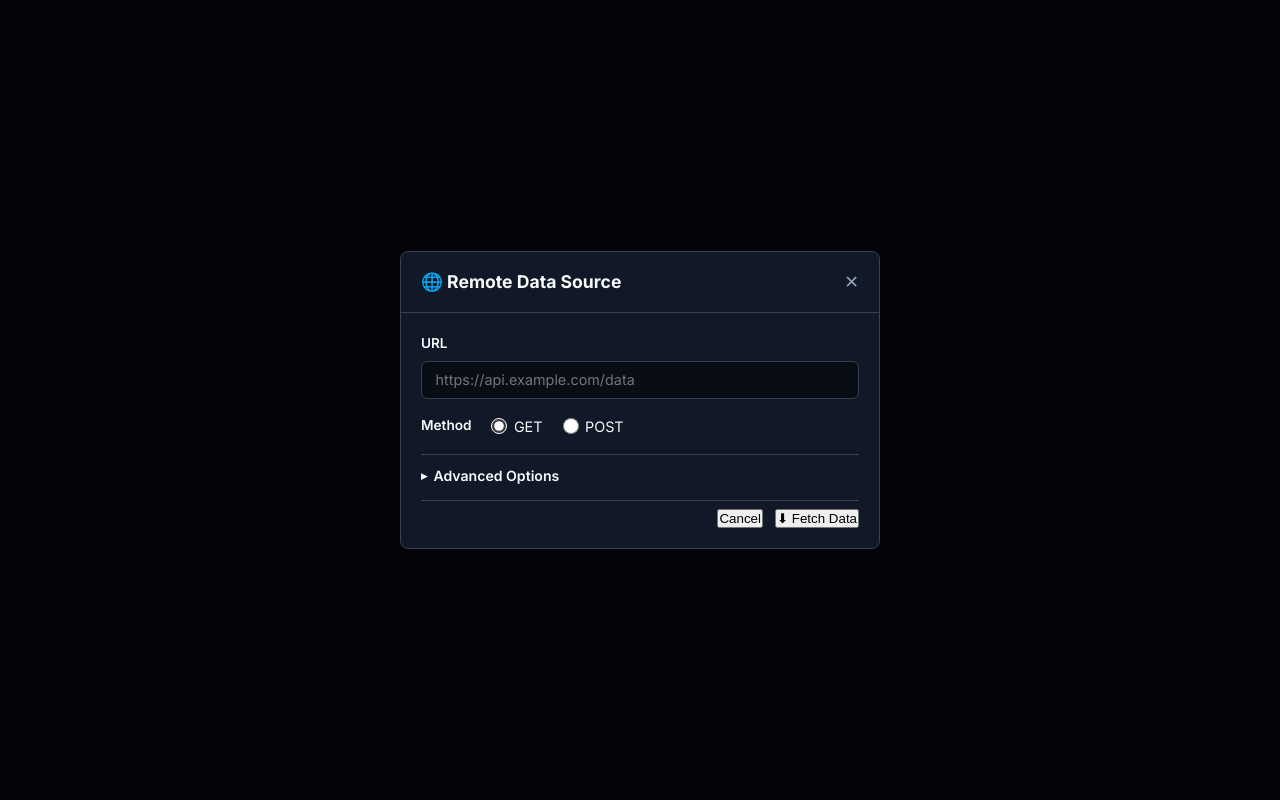
RemoteSourceModal › hides advanced fields by default and shows them on toggle
Expected: the field labelled "Headers" is not shown
Expected: the field labelled "Response Path" is not shown
Click the button "▸ Advanced Options" at (490, 475), box [421,467,559,484]
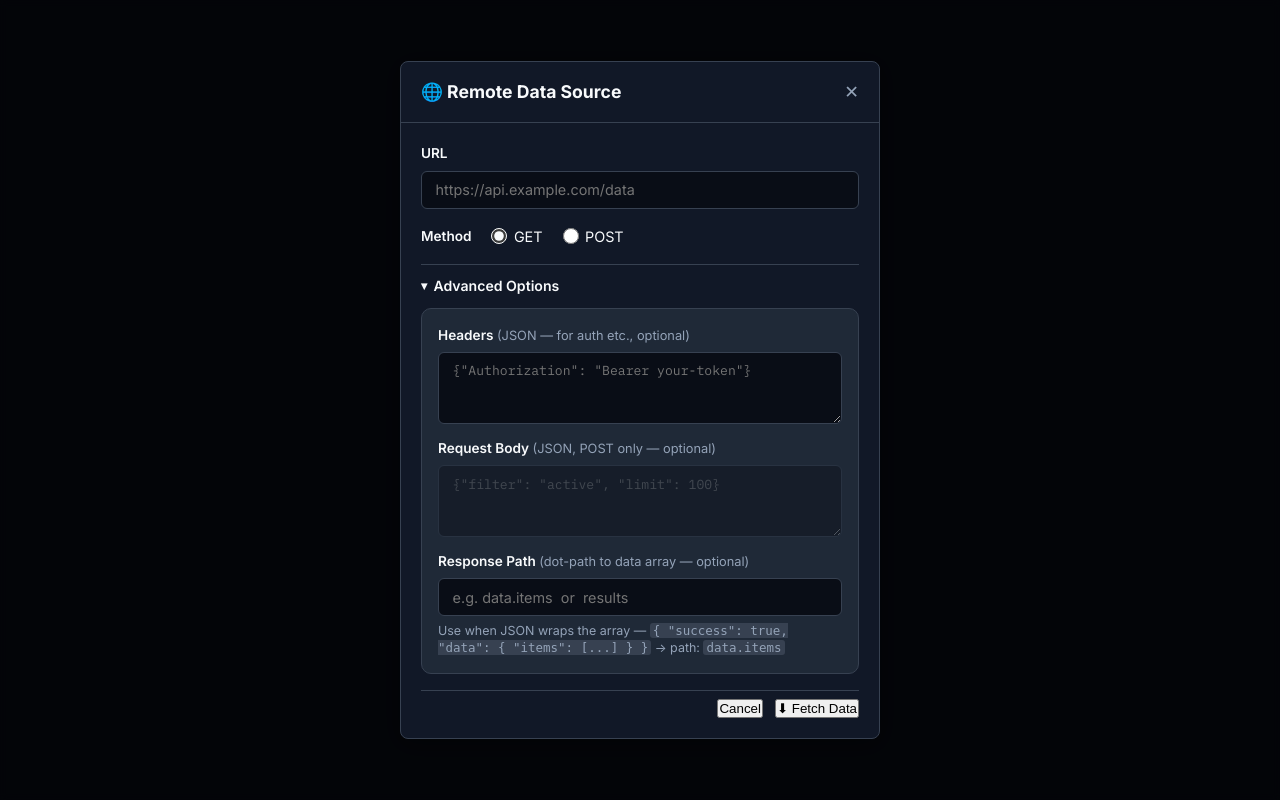
Now the text box labelled "Headers (JSON — for auth etc., optional)" is shown, box [438,352,842,424]
Now the field labelled "Response Path (dot-path to data array — optional)" is shown, box [438,578,842,616]
